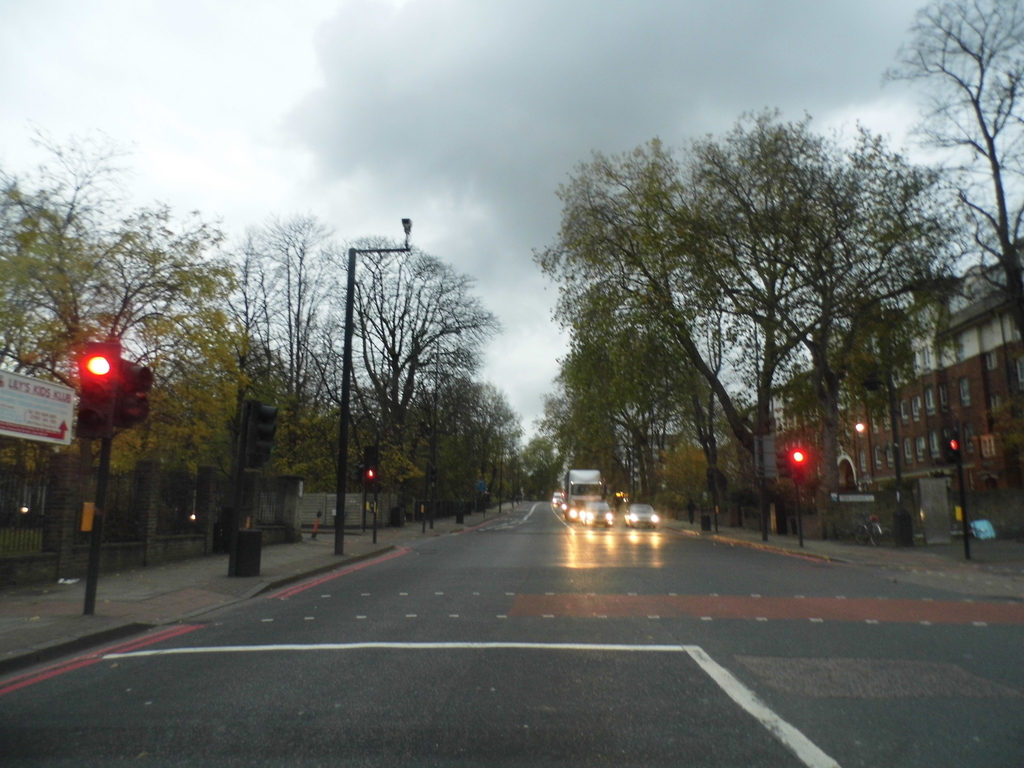red_light: (84, 349, 114, 436), (789, 448, 809, 484)
